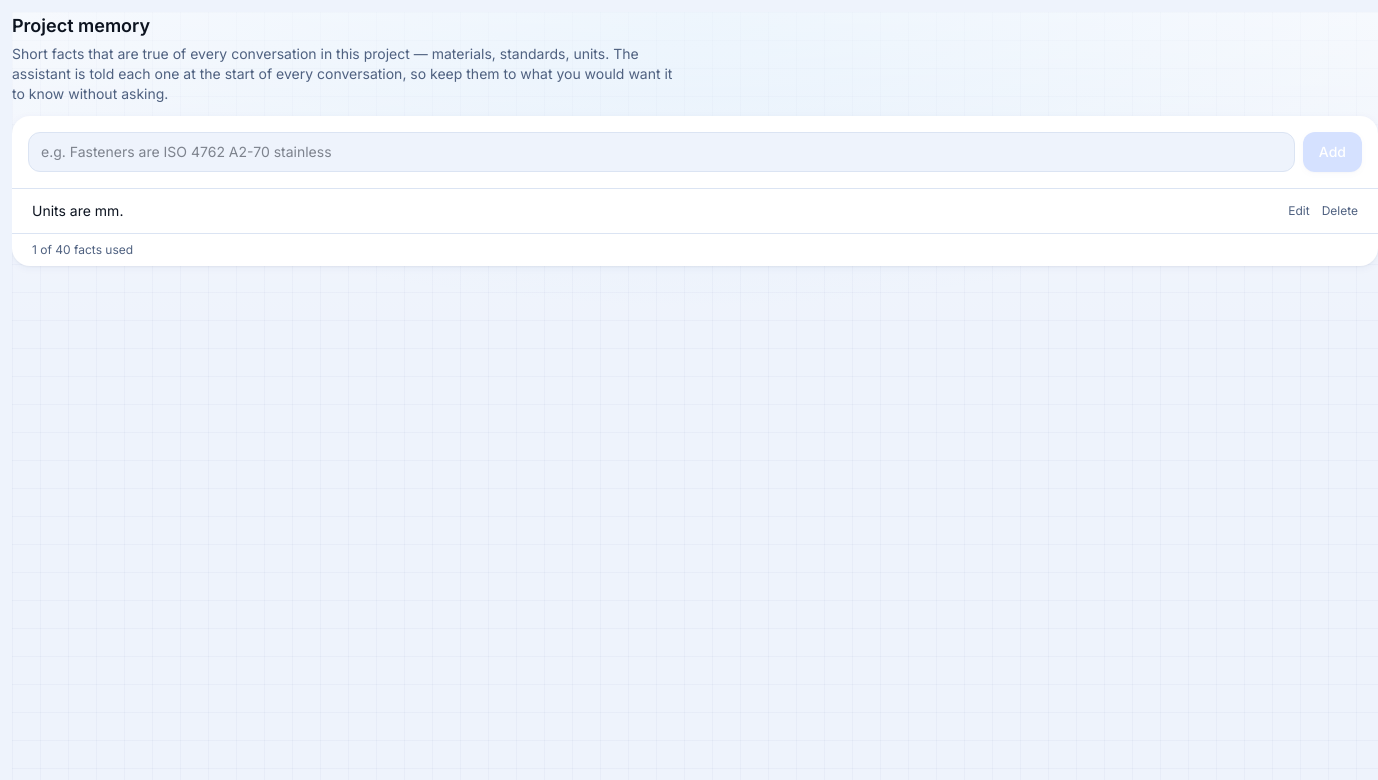
ProjectMemoryPanel › stays in the editor and says why when the reword is refused
Click the button with aria-label "Edit:".
click(1299, 211)  # box [1288,203,1310,219]
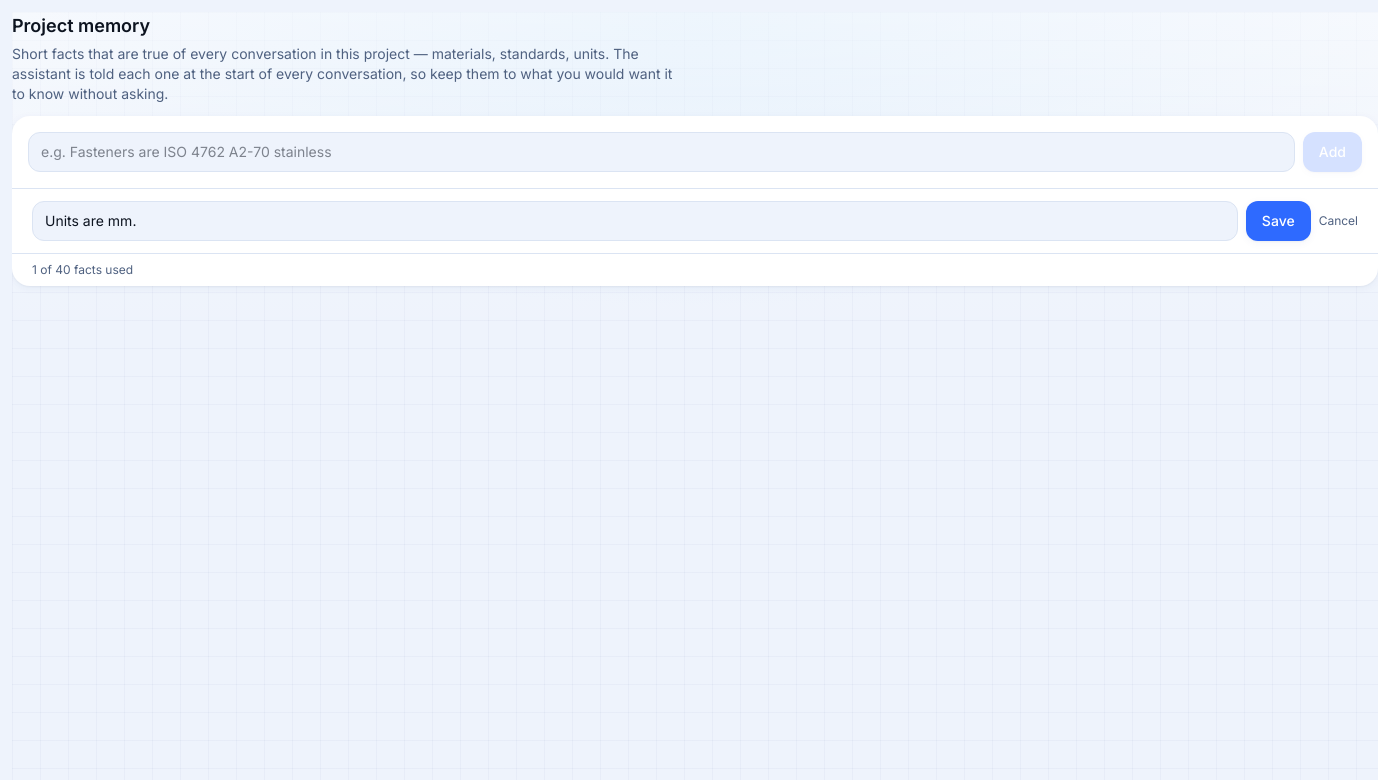
Click the button "Save".
click(1278, 221)  # box [1246,201,1311,241]
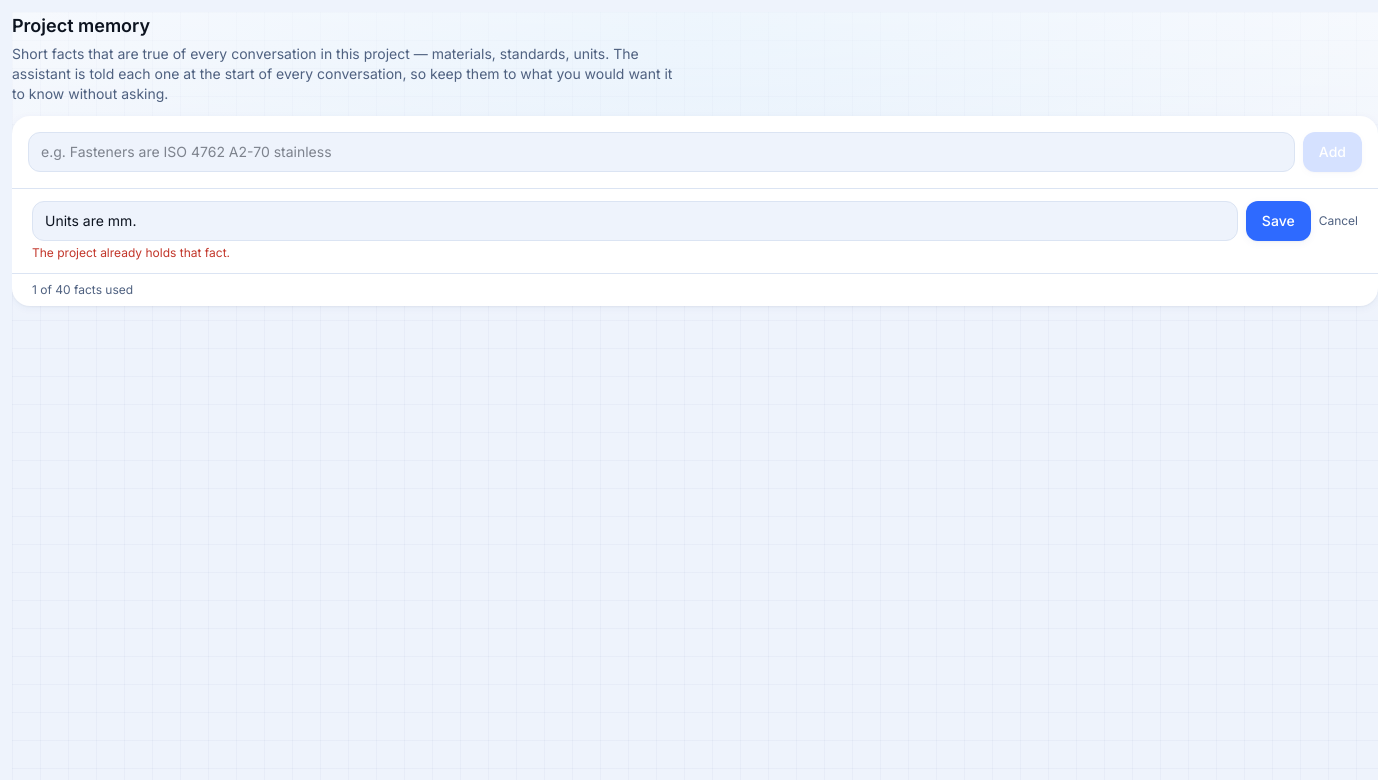
Expected: the field named "Reword this fact" is shown, [32,201,1238,241]
Expected: the message shows "already holds that fact", [32,245,230,260]
